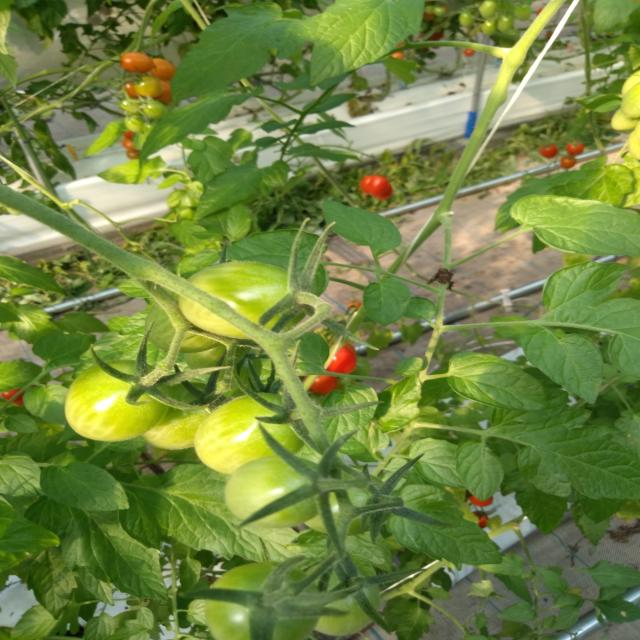c-riped: (326, 344, 356, 376), (304, 374, 338, 396)
c-unriped: (179, 261, 307, 339), (194, 392, 313, 474), (204, 561, 322, 640), (64, 358, 174, 442), (223, 454, 330, 528), (303, 465, 394, 537), (139, 382, 226, 450), (306, 562, 381, 636), (144, 293, 233, 353), (183, 337, 253, 374)
